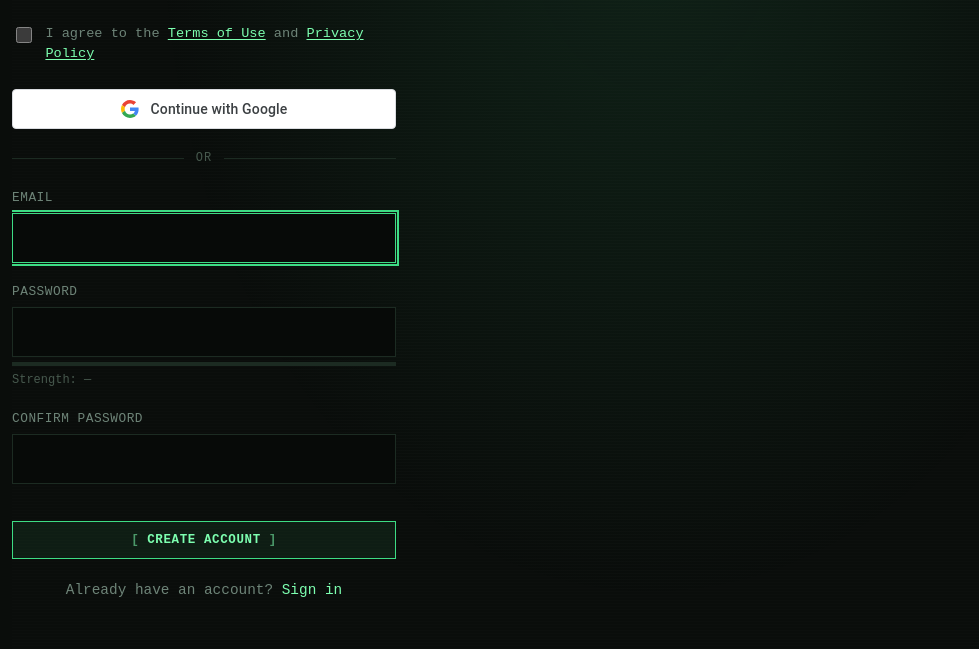
Test case: AuthForm validation › blocks Google signup without terms acceptance
The width and height of the screenshot is (979, 649).
Click the button "Continue with Google" at (204, 109), box x1=12 y1=89 x2=396 y2=129
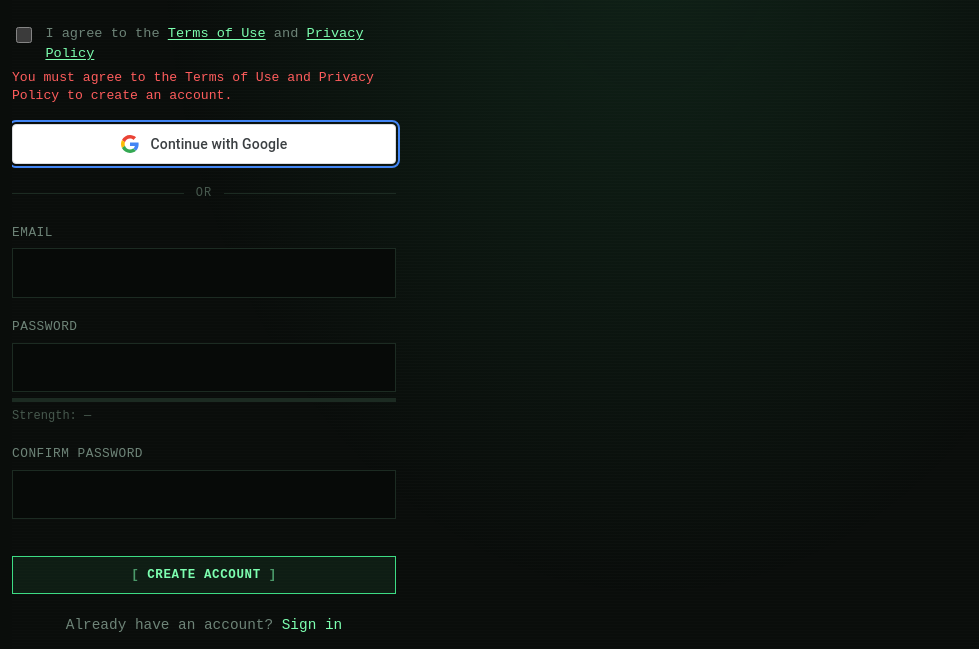
Now the text "You must agree to the Terms of Use and Privacy Policy to create an account." is shown, box x1=12 y1=69 x2=396 y2=104
